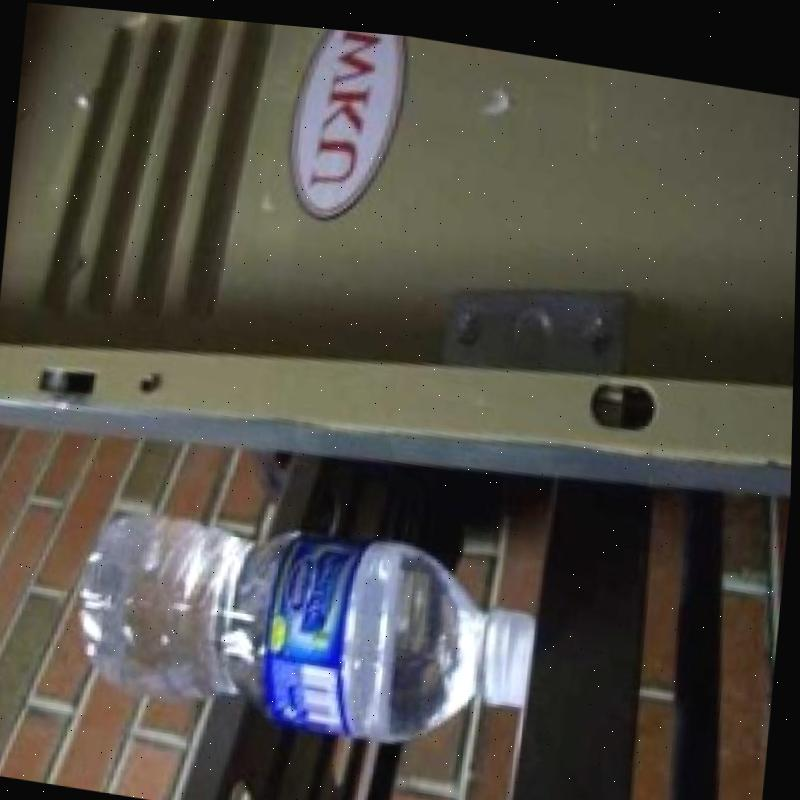botella: (75, 488, 552, 753)
